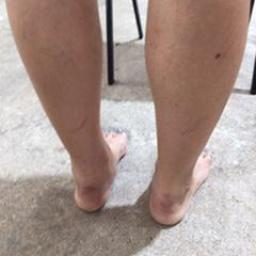Back View -Both Feet-: (40, 109, 226, 238)
